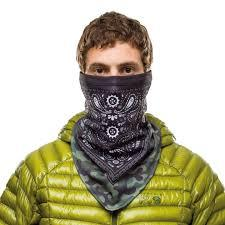scarf-kerchief: (74, 66, 153, 175)
